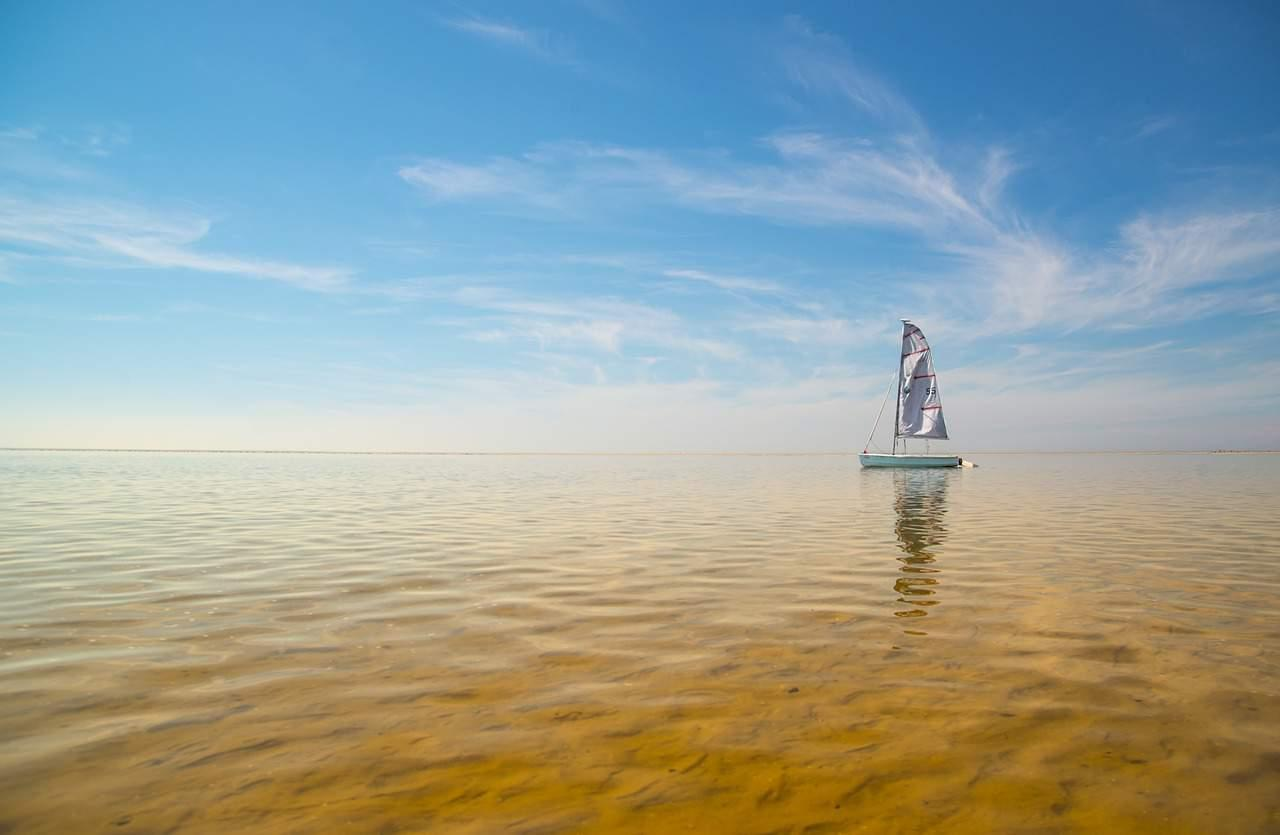Ship: (859, 319, 963, 472)
